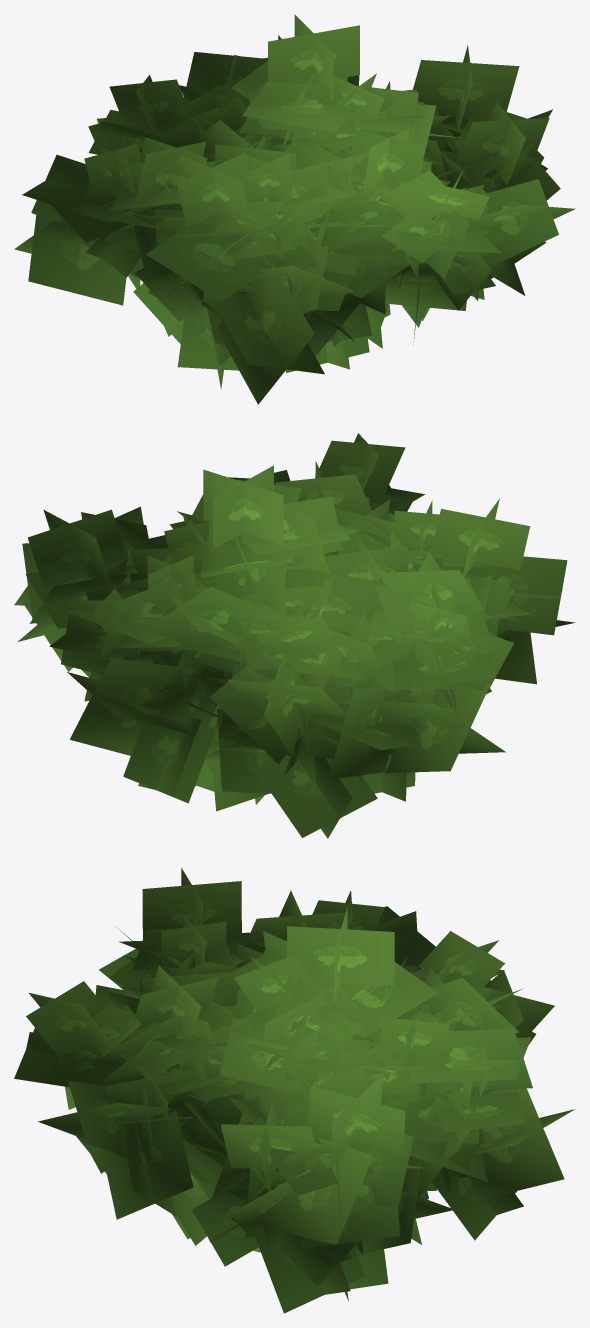
Rendered from saman-bajo.glb.
The picture shows the model from 3 angles, top to bottom: view 1: azimuth 30°, elevation 25°; view 2: azimuth 150°, elevation 25°; view 3: azimuth 270°, elevation 25°; orthographic projection. The views are drawn at different scales.
Visible parts, largest first — view 1: saman; view 2: saman; view 3: saman.
Part boxes in pixels (bbox=[...]): saman: bbox=[14, 14, 575, 404]; saman: bbox=[14, 433, 574, 838]; saman: bbox=[14, 868, 575, 1313].
Bounding box in the file's own units: 30.59 × 18.53 × 27.25.
2 materials, 1 textured.
